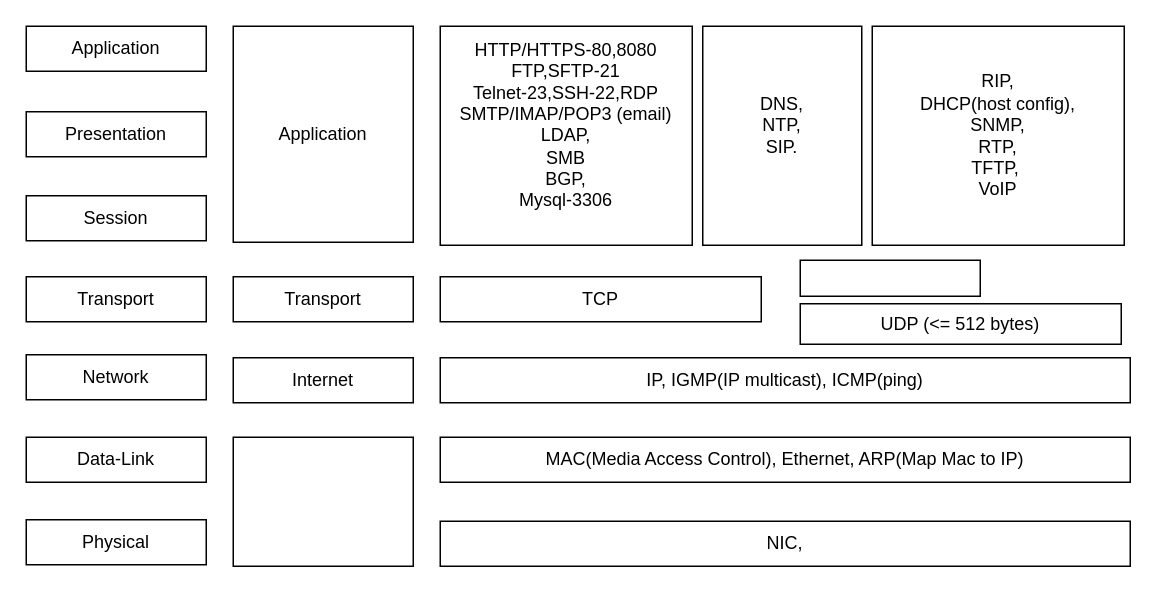
Some shapes in this 1157 by 593 pixel diagram are drawn without their labels. The shapes that lost their labels are listed below. From the top down, each one's centre as x and y in pixels, then its label:
[889,277]: QUIC (http/3)
[322,501]: Network Interface
